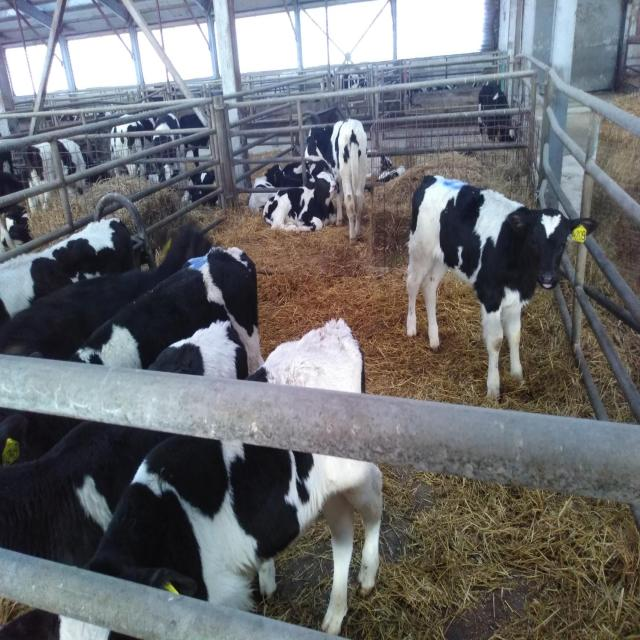cow: (0, 240, 264, 639), (66, 316, 384, 639), (1, 220, 214, 464), (404, 173, 598, 400), (0, 216, 138, 323), (302, 116, 367, 243), (262, 171, 340, 232), (0, 170, 34, 256), (477, 81, 519, 142)
